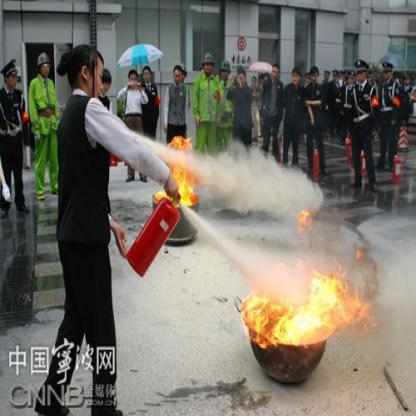fire: (309, 274, 358, 326), (275, 299, 322, 344), (242, 289, 276, 346), (172, 166, 194, 206), (296, 207, 310, 233), (168, 135, 189, 149)
